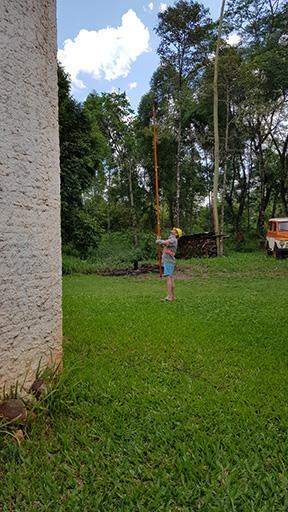Vara_Manobra: (151, 104, 163, 279)
